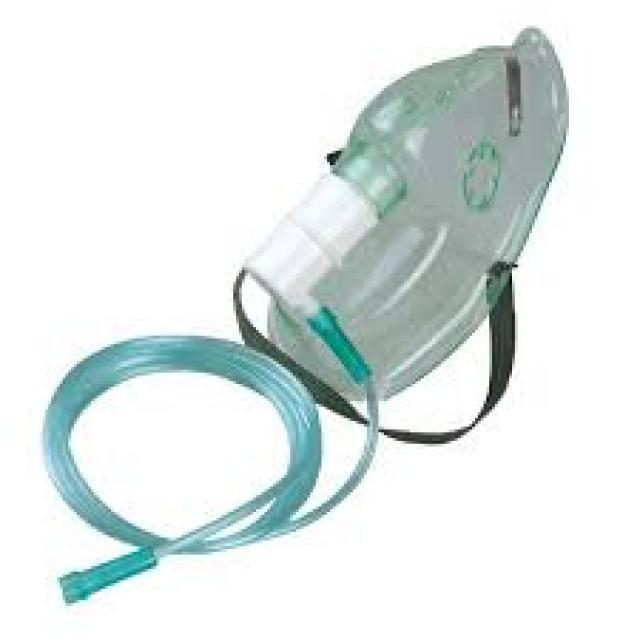oxygen_mask: (256, 76, 548, 505)
